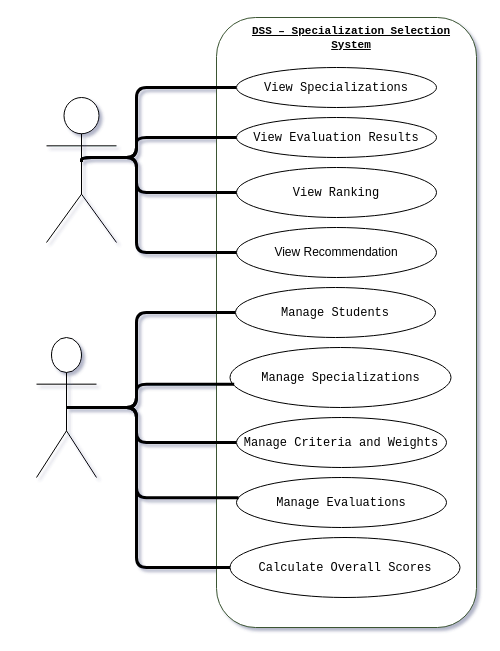
Some shapes in this 500 by 651 pixel diagram are drawn without their labels. Here are the shapes that lost their labels. From the top down, the box of each, then its label:
(46, 96, 116, 242): Student
(36, 336, 96, 478): Admin ( To be confirmed)
